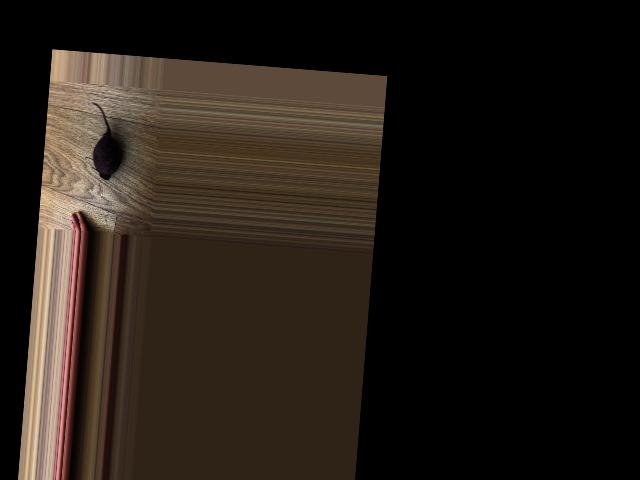beet: (84, 101, 125, 180)
